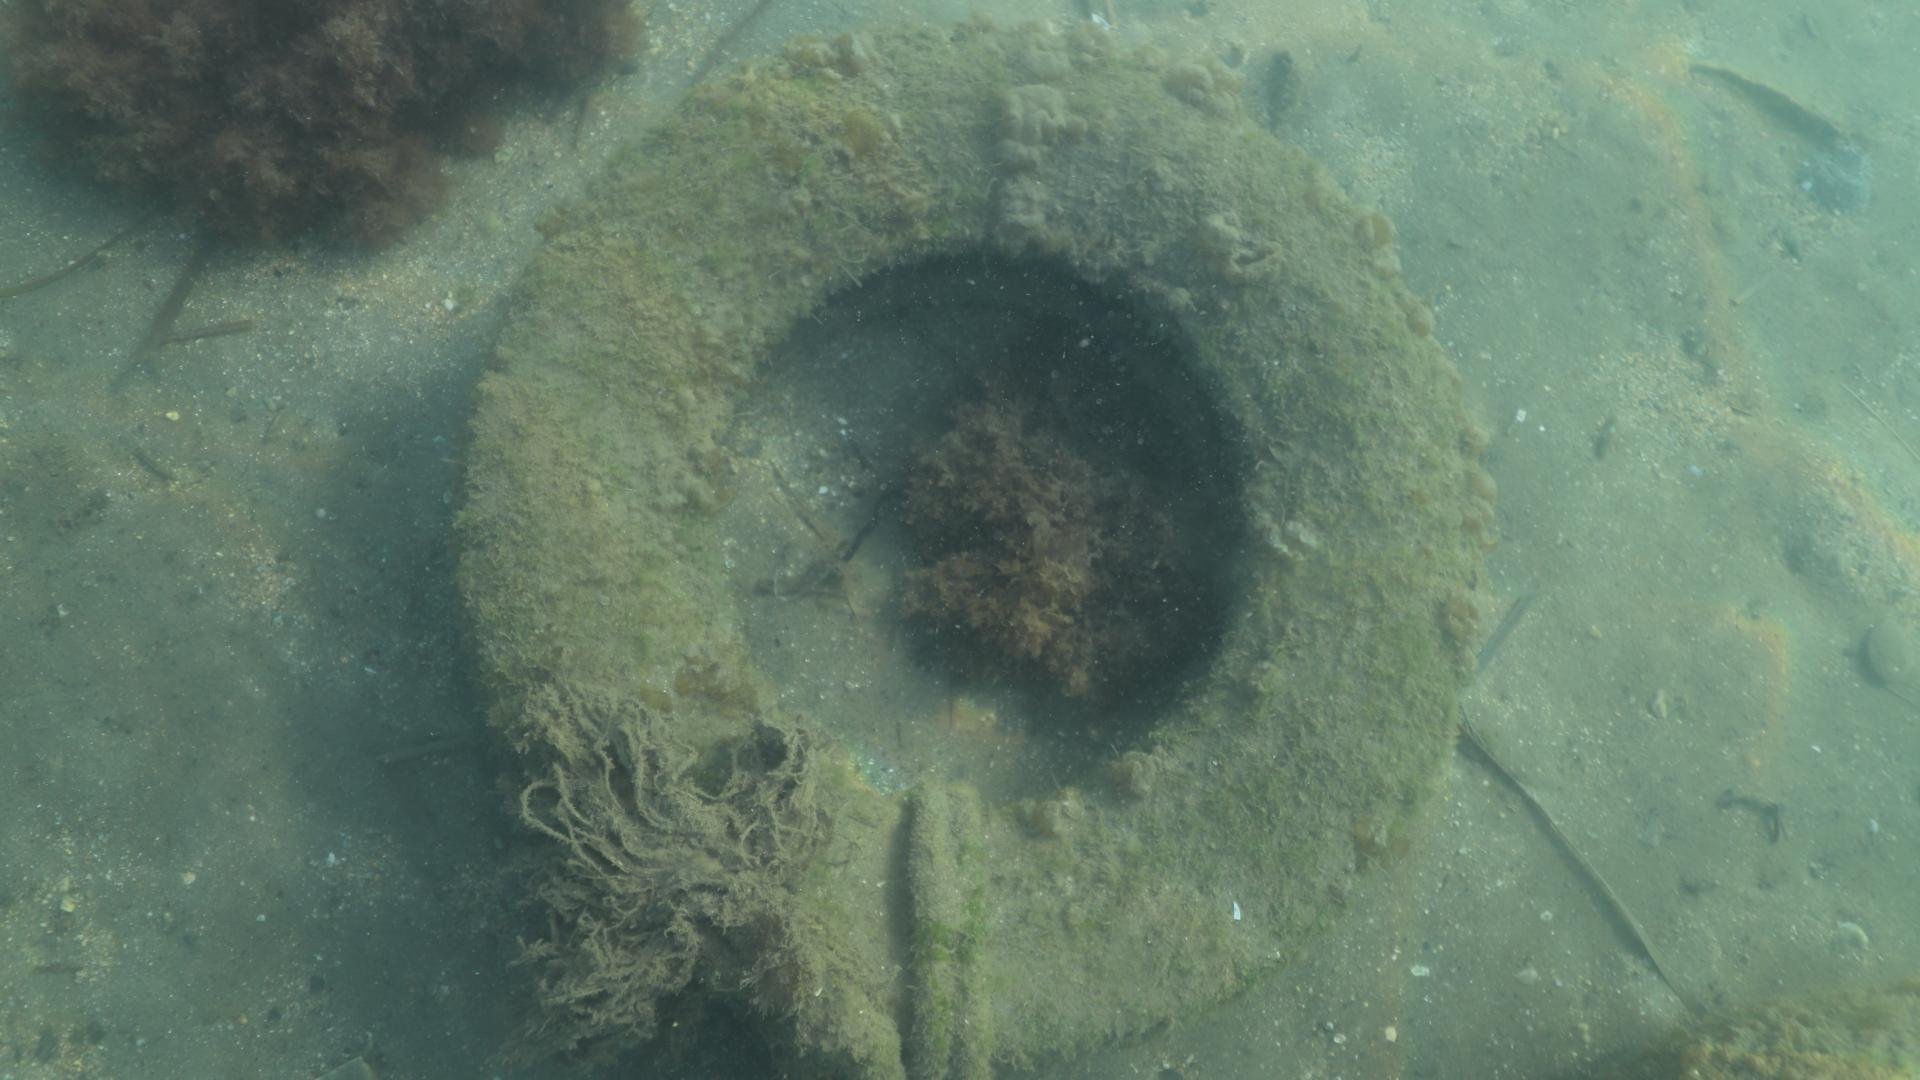tire: (444, 22, 1493, 1080)
